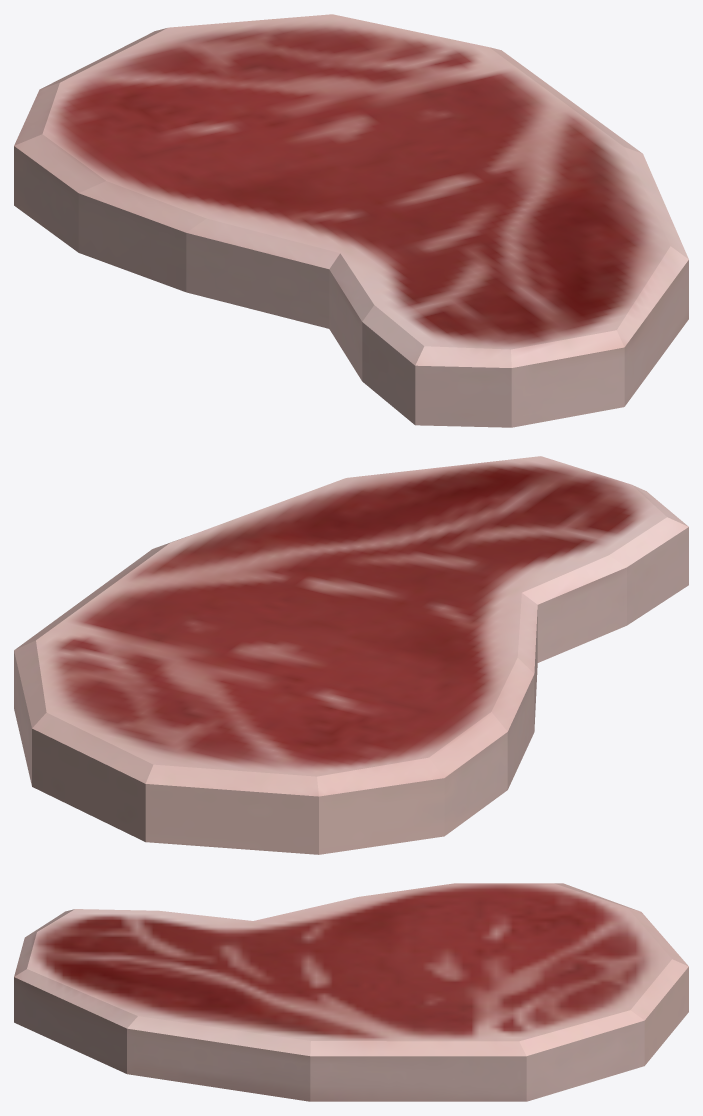
File: steak.fbx
3 views of the same model, one above another, from view 1: azimuth 30°, elevation 25°; view 2: azimuth 150°, elevation 25°; view 3: azimuth 270°, elevation 25° (orthographic). The views are drawn at different scales.
Visible parts, largest first — view 1: pCube1; view 2: pCube1; view 3: pCube1.
Boxes of the visible parts, x1=… form: pCube1: x1=14, y1=14, x2=688, y2=427; pCube1: x1=14, y1=456, x2=688, y2=854; pCube1: x1=14, y1=883, x2=688, y2=1101.
Size of the model in its own units: 174 by 25.3 by 287.
Materials: 1 (1 with a texture image).
